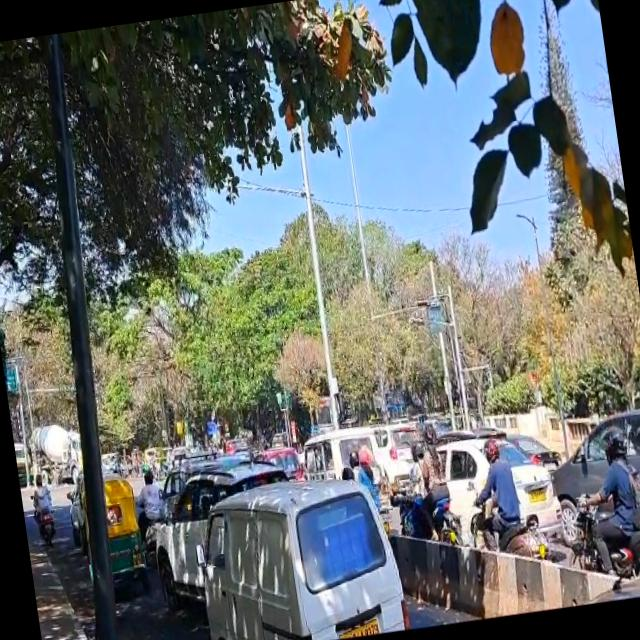cars: (192, 471, 410, 640), (145, 453, 304, 616), (432, 428, 569, 563), (538, 409, 640, 552), (302, 426, 389, 504)
